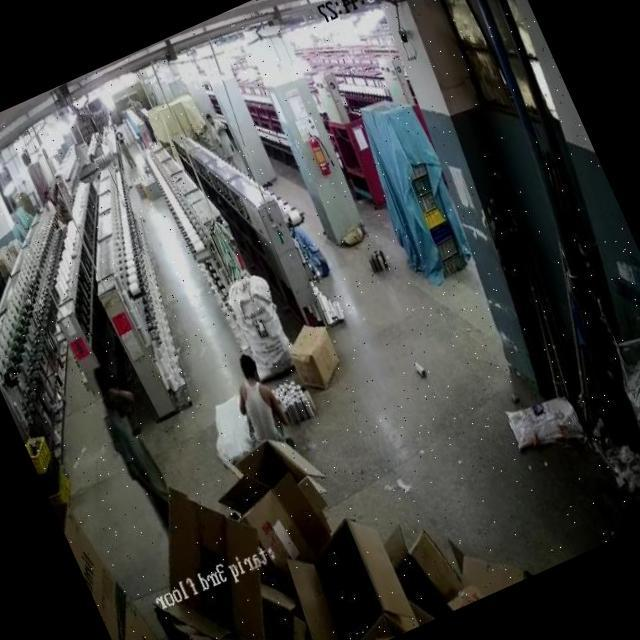person: (86, 365, 175, 518), (225, 352, 284, 435)
